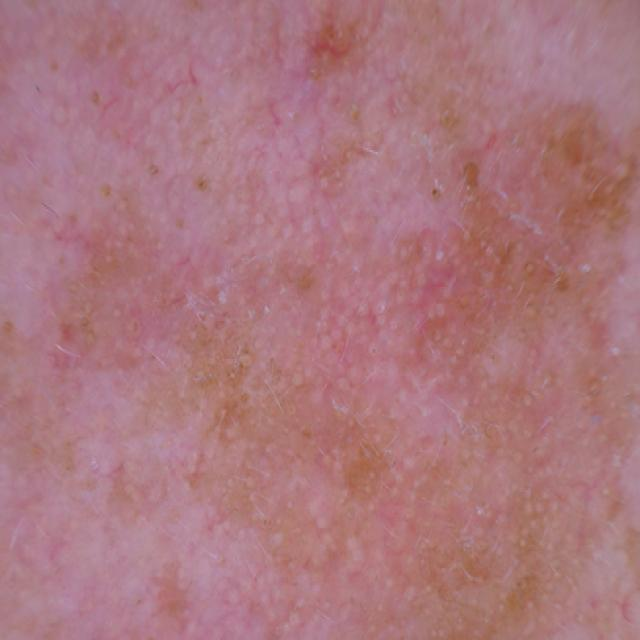Keratosis: (202, 76, 640, 579)
